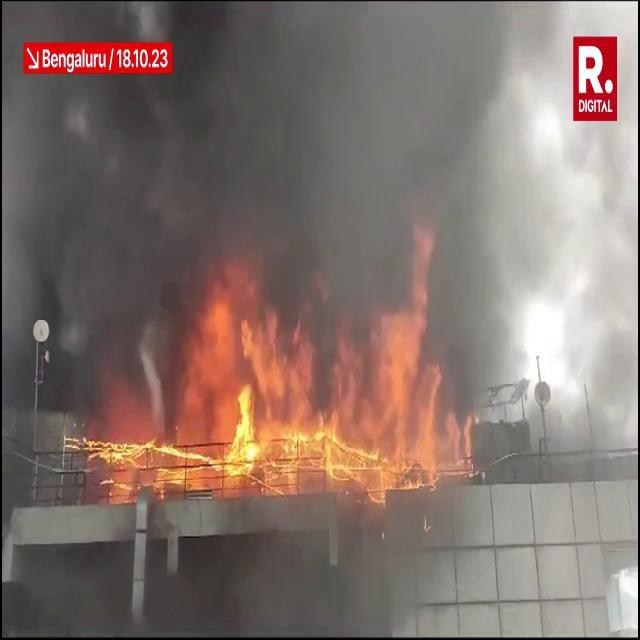Fire: (87, 336, 462, 494)
Smoke: (7, 3, 576, 386)
